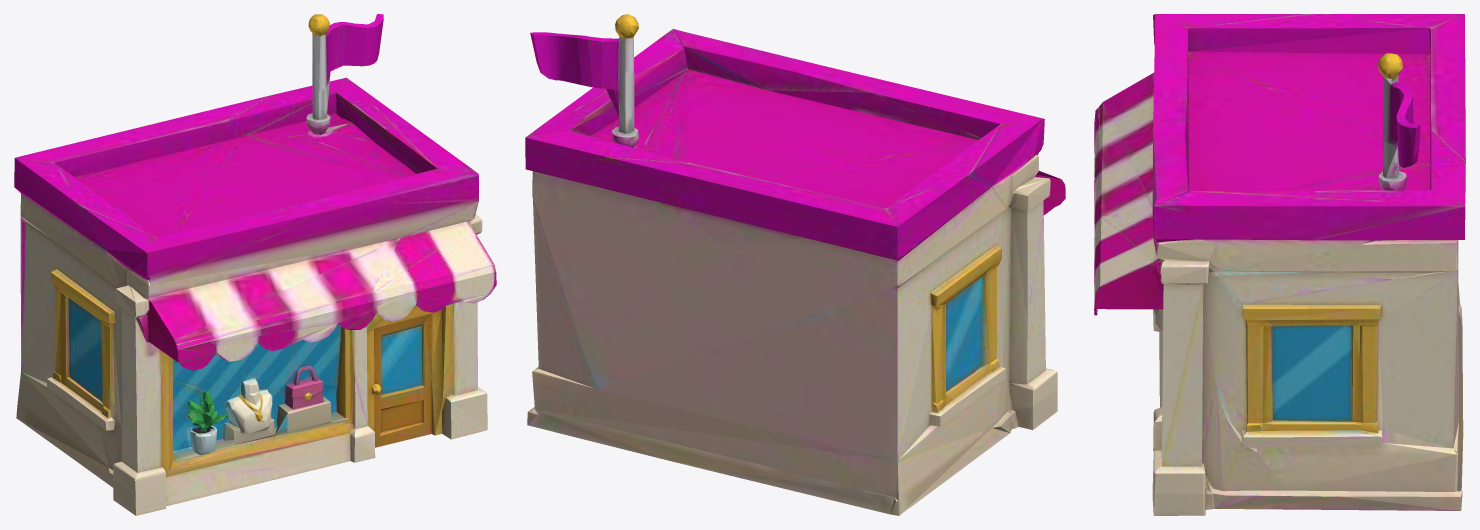
The model's file is tower1.glb.
3 views of the same model, side by side, from view 1: azimuth 30°, elevation 25°; view 2: azimuth 150°, elevation 25°; view 3: azimuth 270°, elevation 25° (orthographic). The views are drawn at different scales.
Bounding box in the file's own units: 1.9 × 1.8 × 1.44.
Materials: 1 (1 with a texture image).
